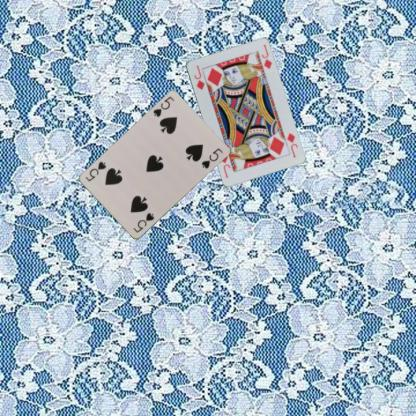5s: (150, 94, 176, 119), (130, 210, 156, 234)
Jd: (191, 63, 206, 92), (284, 130, 298, 158)
